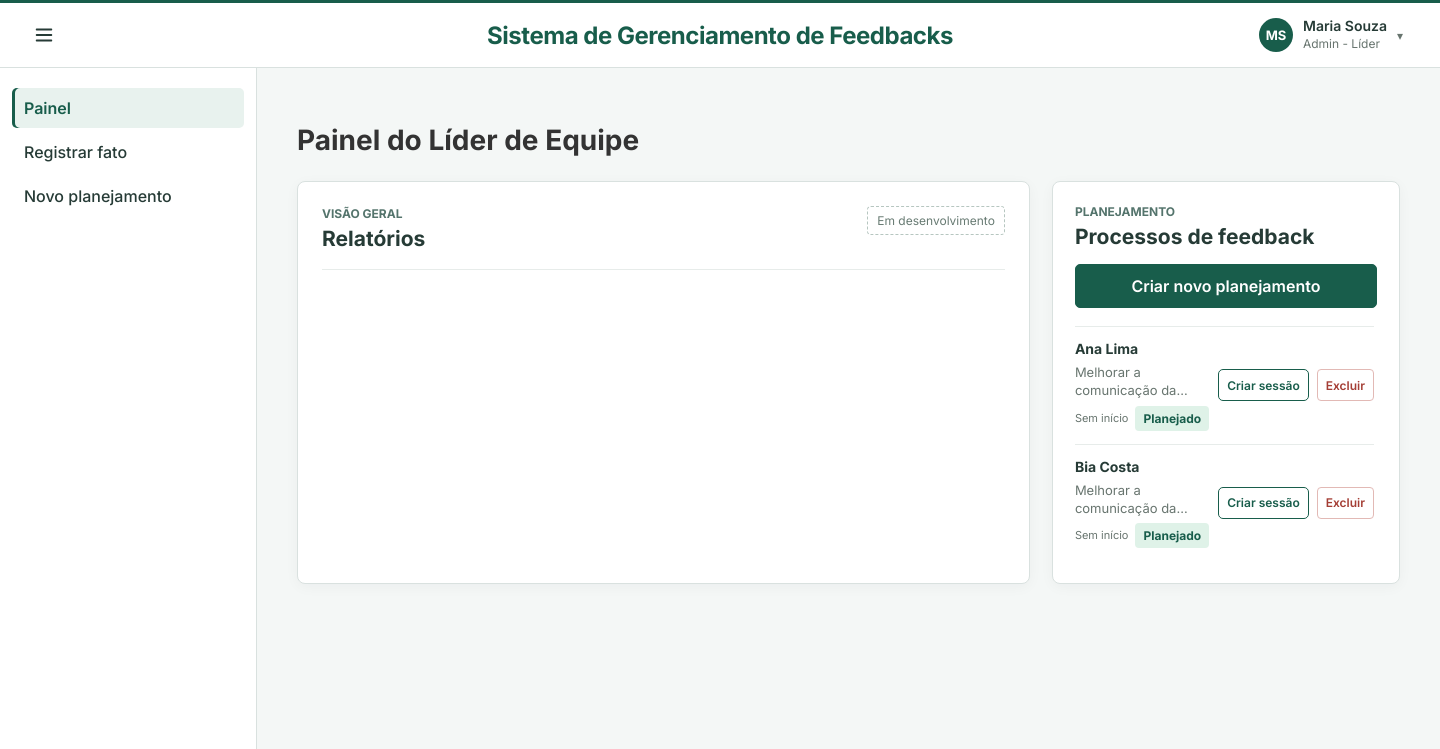
Test: Dashboard › deve manter o objetivo digitado de uma sessão quando outra sessão é criada
Step 1. Click the 1st button "Criar sessão" → (1264, 385), box x1=1218 y1=369 x2=1309 y2=401
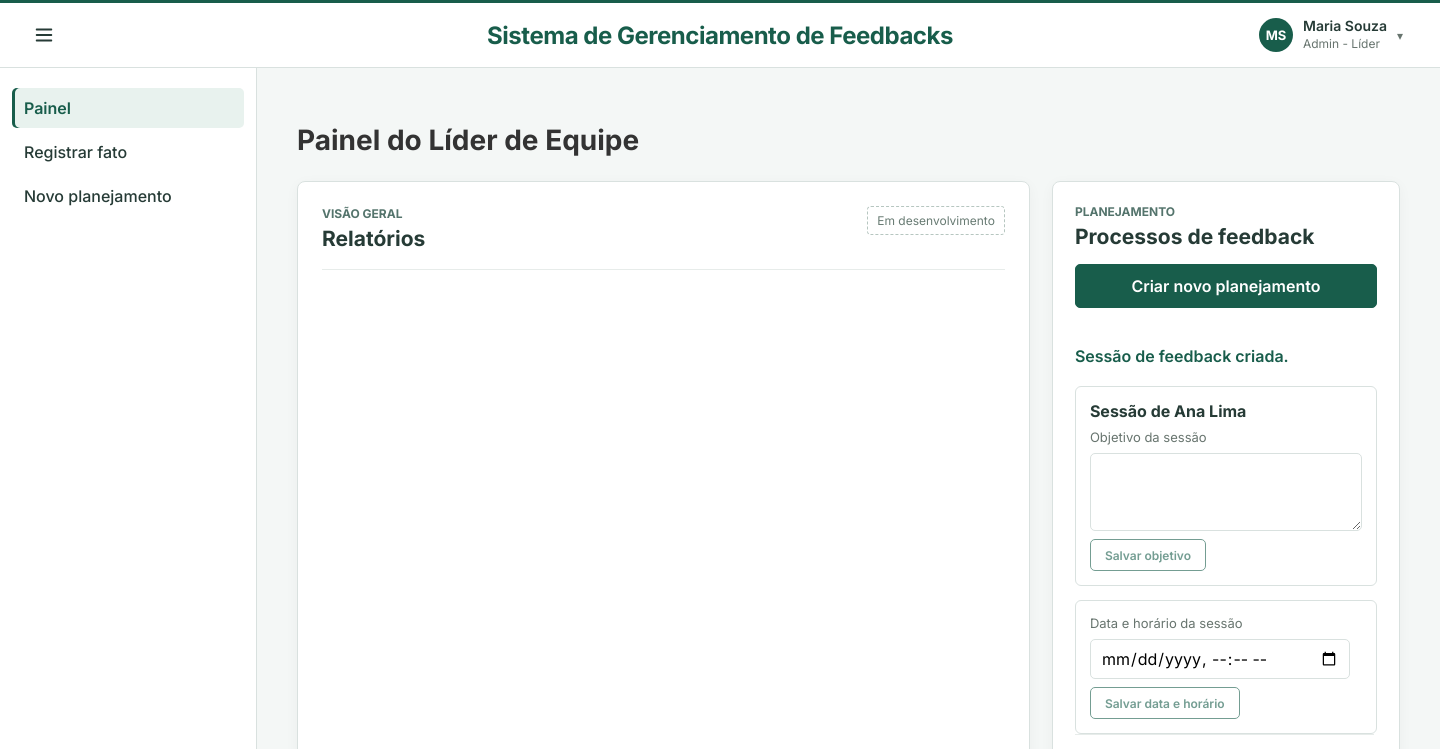
Step 2. Type "Alinhar metas" into the text box labelled "Objetivo da sessão" → (1226, 492), box x1=1090 y1=453 x2=1362 y2=531
(page scrolled)
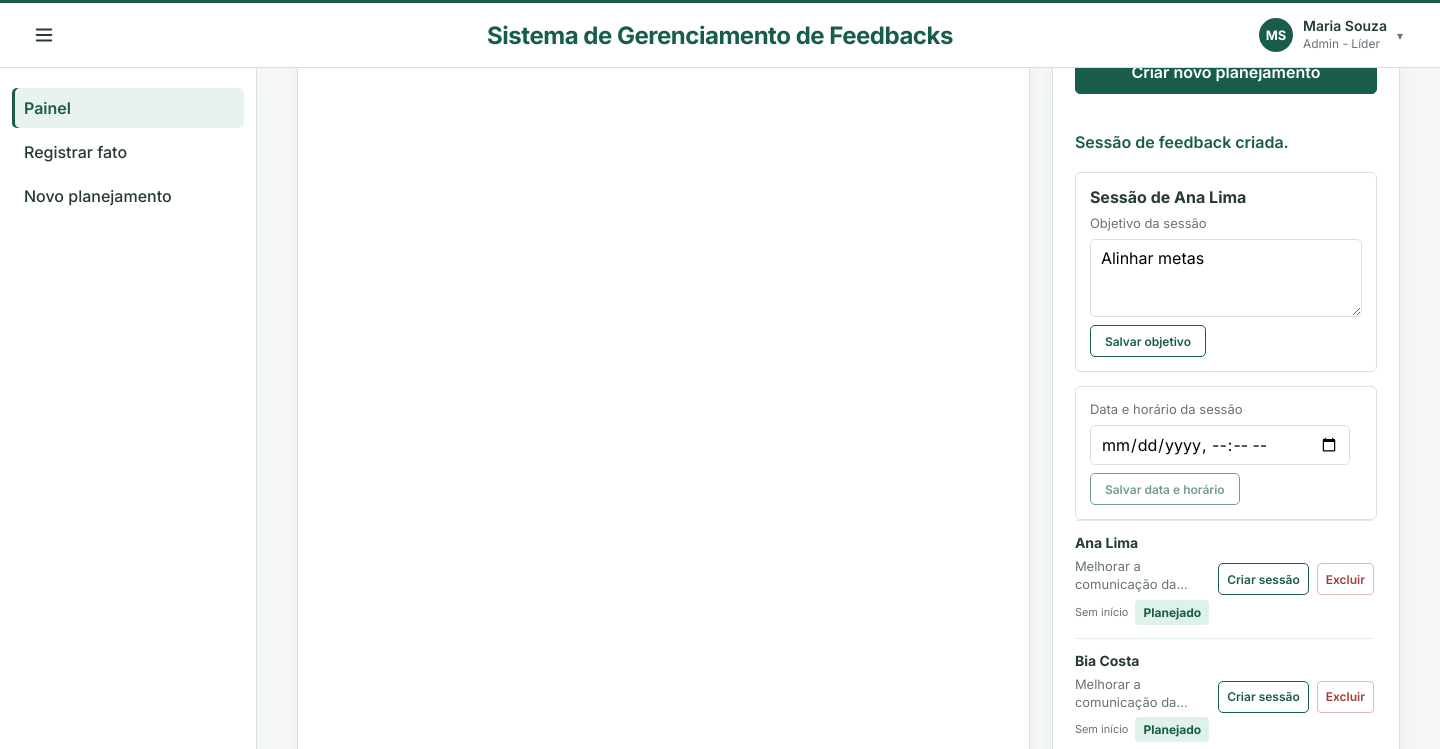
Step 3. Click the 2nd button "Criar sessão" → (1264, 697), box x1=1218 y1=681 x2=1309 y2=713
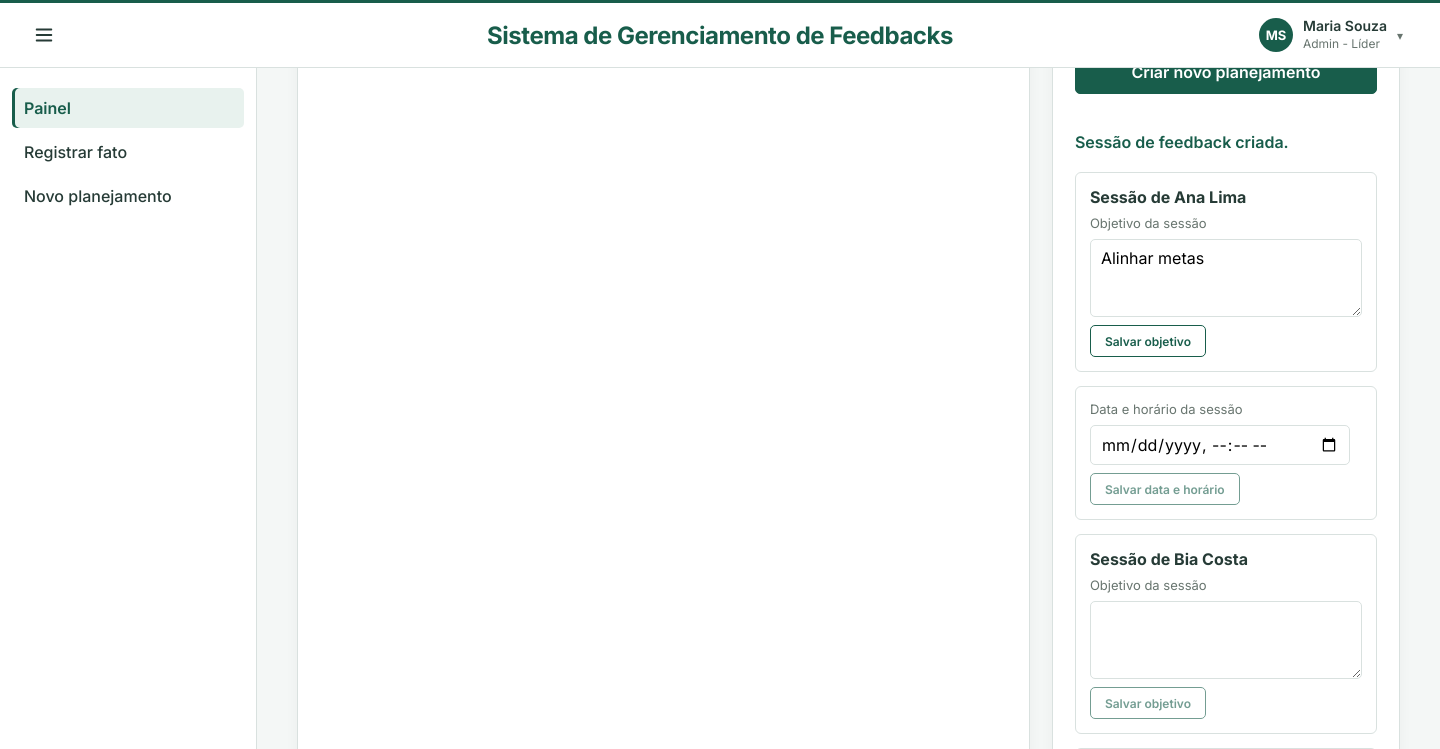
expect the number of text boxes labelled "Objetivo da sessão" is 2: met, box x1=1090 y1=239 x2=1362 y2=317; x1=1090 y1=601 x2=1362 y2=679
